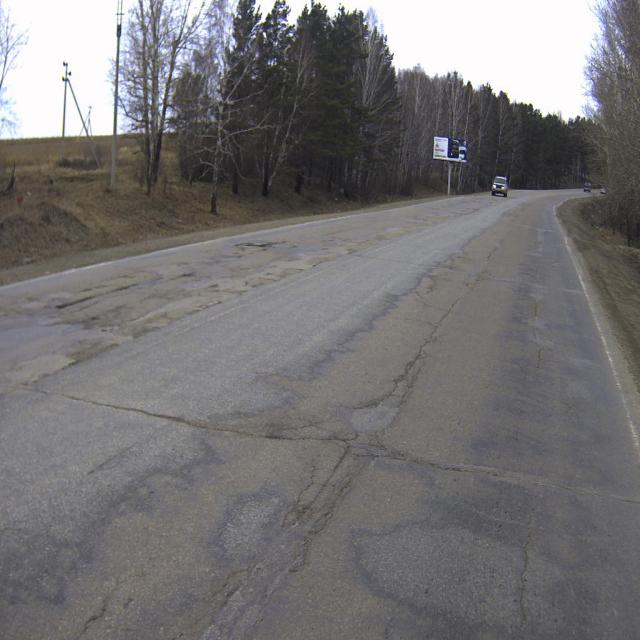road: (0, 189, 640, 639)
